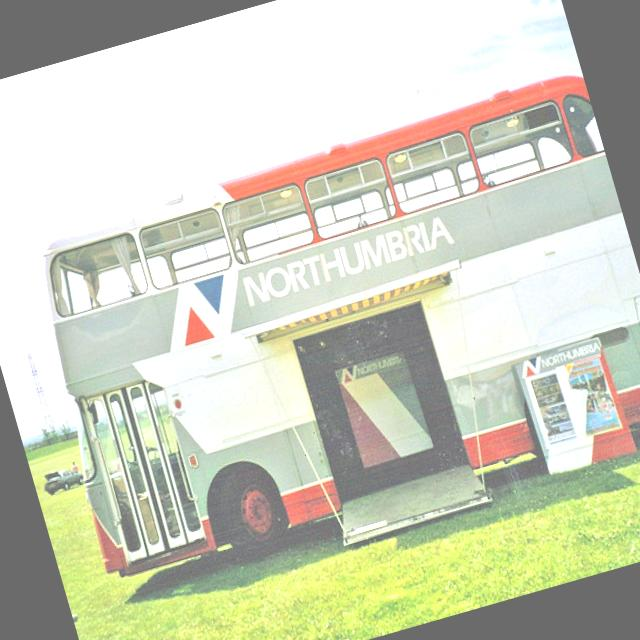Vehicle: (8, 67, 640, 604), (40, 464, 86, 496)
